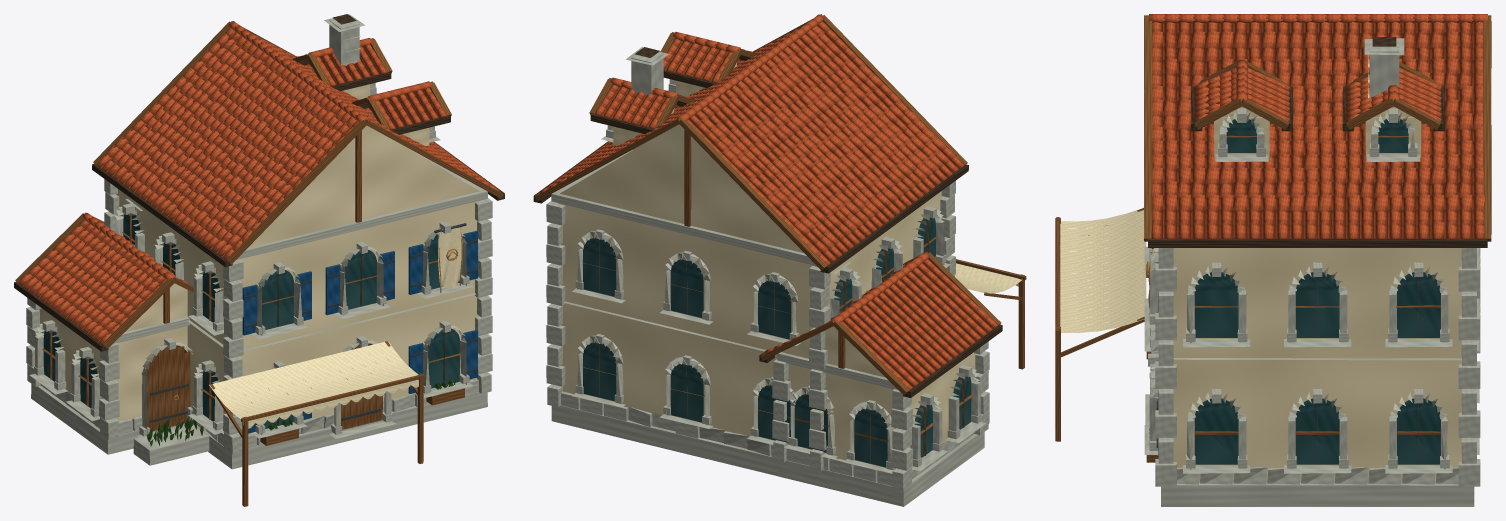
File: healing_house.glb
3 views of the same model, side by side, from view 1: azimuth 30°, elevation 25°; view 2: azimuth 150°, elevation 25°; view 3: azimuth 270°, elevation 25° (orthographic). The views are drawn at different scales.
Parts seen in each view (by area): view 1: healing_house_Structure.001, healing_house_Roof.001, healing_house_Joinery.001, healing_house_Detail.001, healing_house_Cloth.001, healing_house_Glazing.001, healing_house_Metalwork.001, healing_house_Foliage.001; view 2: healing_house_Structure.001, healing_house_Roof.001, healing_house_Glazing.001, healing_house_Joinery.001, healing_house_Detail.001, healing_house_Cloth.001; view 3: healing_house_Roof.001, healing_house_Structure.001, healing_house_Glazing.001, healing_house_Detail.001, healing_house_Joinery.001, healing_house_Cloth.001.
Boxes of the visible parts, bbox=[...] form: healing_house_Structure.001: bbox=[26, 14, 492, 469]; healing_house_Roof.001: bbox=[17, 21, 500, 344]; healing_house_Joinery.001: bbox=[14, 21, 504, 506]; healing_house_Detail.001: bbox=[29, 83, 473, 438]; healing_house_Cloth.001: bbox=[209, 227, 462, 428]; healing_house_Glazing.001: bbox=[43, 214, 459, 428]; healing_house_Metalwork.001: bbox=[150, 223, 477, 424]; healing_house_Foliage.001: bbox=[146, 379, 455, 446]; healing_house_Structure.001: bbox=[546, 47, 989, 506]; healing_house_Roof.001: bbox=[537, 14, 998, 390]; healing_house_Glazing.001: bbox=[583, 218, 971, 467]; healing_house_Joinery.001: bbox=[533, 14, 1026, 462]; healing_house_Detail.001: bbox=[572, 79, 985, 473]; healing_house_Cloth.001: bbox=[955, 263, 1023, 293]; healing_house_Roof.001: bbox=[1149, 14, 1487, 239]; healing_house_Structure.001: bbox=[1155, 37, 1480, 506]; healing_house_Glazing.001: bbox=[1194, 118, 1440, 464]; healing_house_Detail.001: bbox=[1144, 108, 1479, 473]; healing_house_Joinery.001: bbox=[1055, 15, 1491, 463]; healing_house_Cloth.001: bbox=[1060, 209, 1153, 332].
Size of the model in its own units: 10.78 by 9.72 by 8.91.
Materials: 4 (4 with a texture image).
